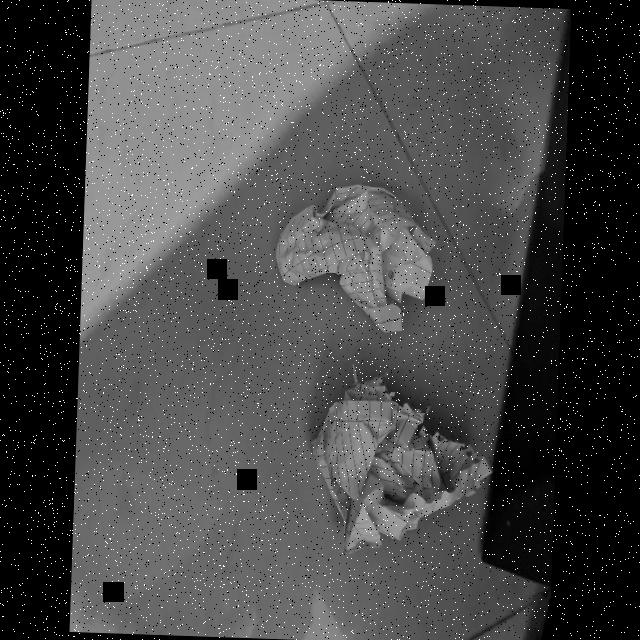scrap_paper: (264, 176, 439, 334)
